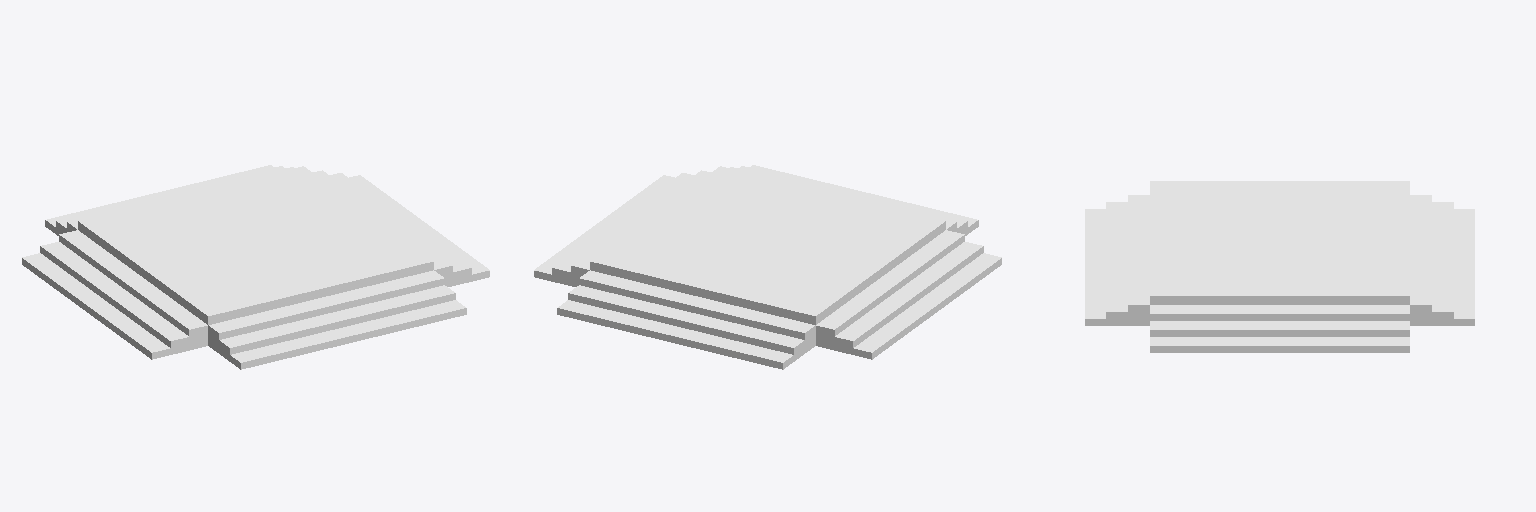
The model's file is altar.obj.
3 renders of one model, left to right at view 1: azimuth 30°, elevation 25°; view 2: azimuth 150°, elevation 25°; view 3: azimuth 270°, elevation 25°, orthographic.
Parts seen in each view (by area): view 1: Altar_0; view 2: Altar_0; view 3: Altar_0.
Part boxes in pixels (x1,y1,x2,y2): Altar_0: (22, 165, 489, 369); Altar_0: (534, 165, 1001, 369); Altar_0: (1085, 181, 1474, 352).
Size of the model in its own units: 6 by 0.5 by 6.